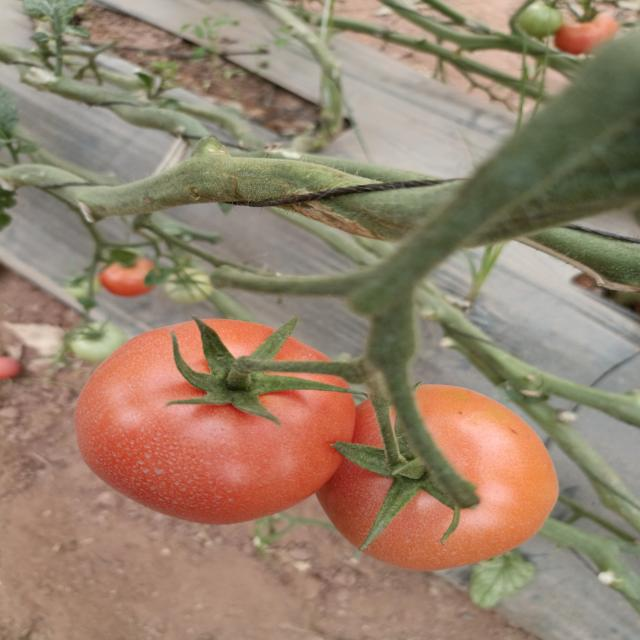Ripe Tomato: (78, 317, 358, 524), (322, 380, 558, 566)
